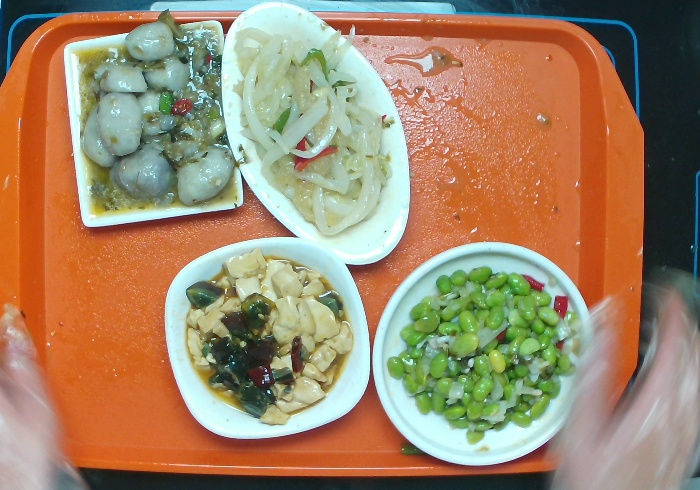HZYJPL-Si_Fang_Die: (59, 15, 247, 236)
HZYJPL-Si_Fang_Yuan_Die: (149, 231, 375, 442)
HZYJPL-Xiao_Yu_Die: (213, 1, 419, 275)
HZYJPL-Xiao_Yuan_Die: (365, 228, 603, 475)
